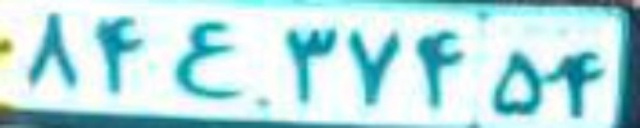3: (282, 25, 335, 102)
4: (92, 15, 144, 94), (415, 29, 462, 107), (556, 53, 605, 118)
5: (486, 51, 546, 115)
7: (346, 26, 398, 104)
8: (27, 10, 75, 88)
ain: (173, 21, 240, 98)
